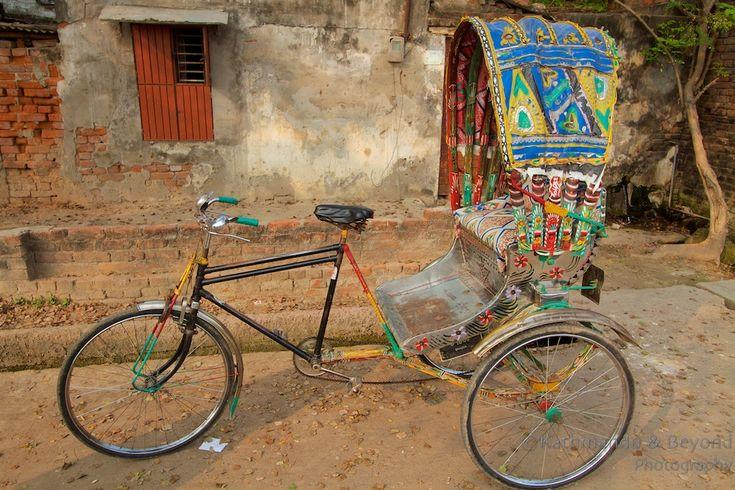Rickshaw: (58, 17, 633, 487)
